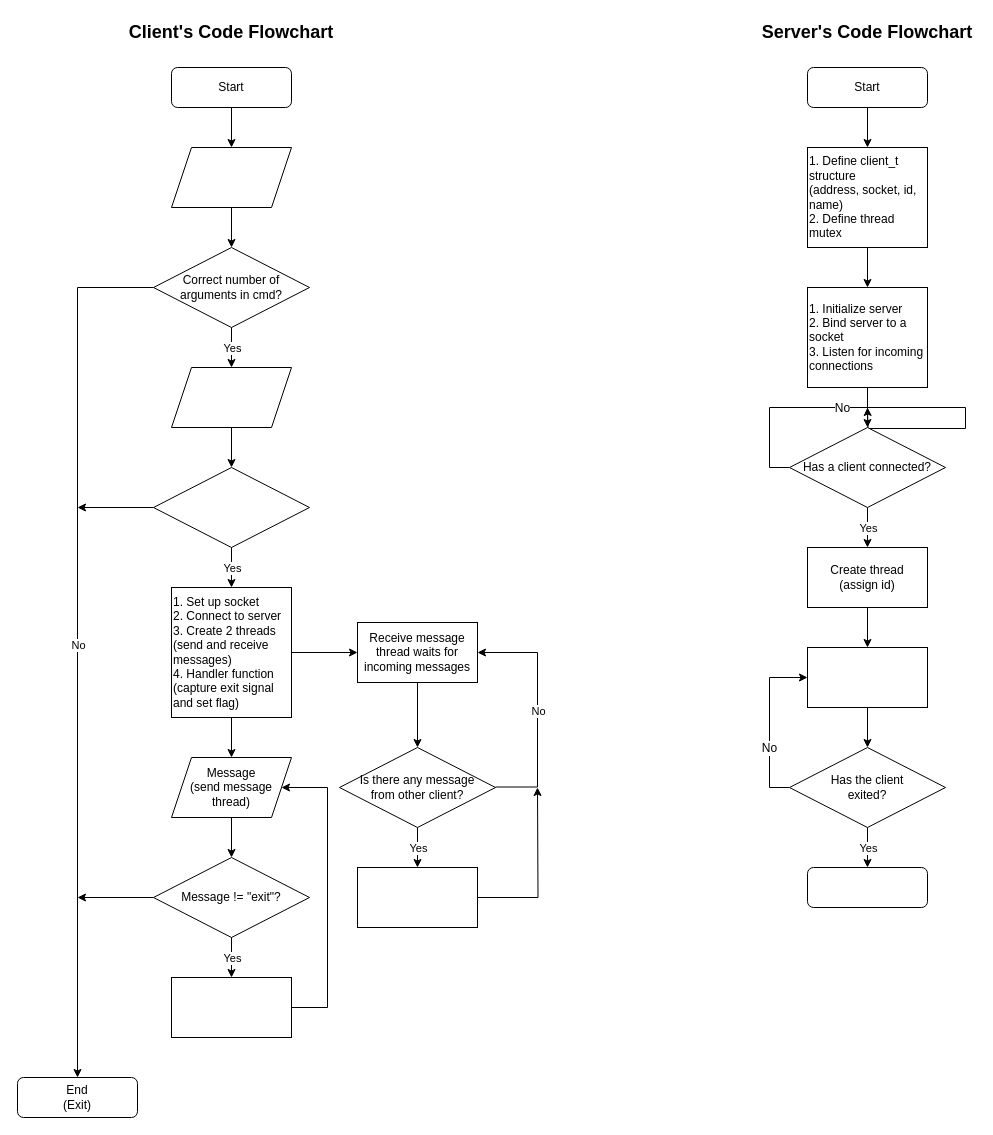
This 993x1135 diagram has some shape labels left out. Here are the shapes that lost their labels. From the top down, the centre of each, then its label:
At (231,177): "IP Address Port Number".
At (231,397): "Client's name".
At (231,507): "Length of name > 0?".
At (867,677): "Message receiver handler and broadcaster".
At (417,897): "Print message".
At (867,887): "End".
At (231,1007): "Send message to server".
